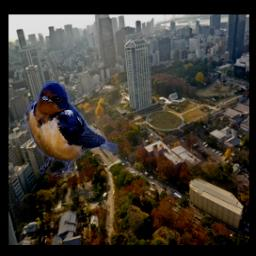Swallow: (23, 79, 118, 177)
